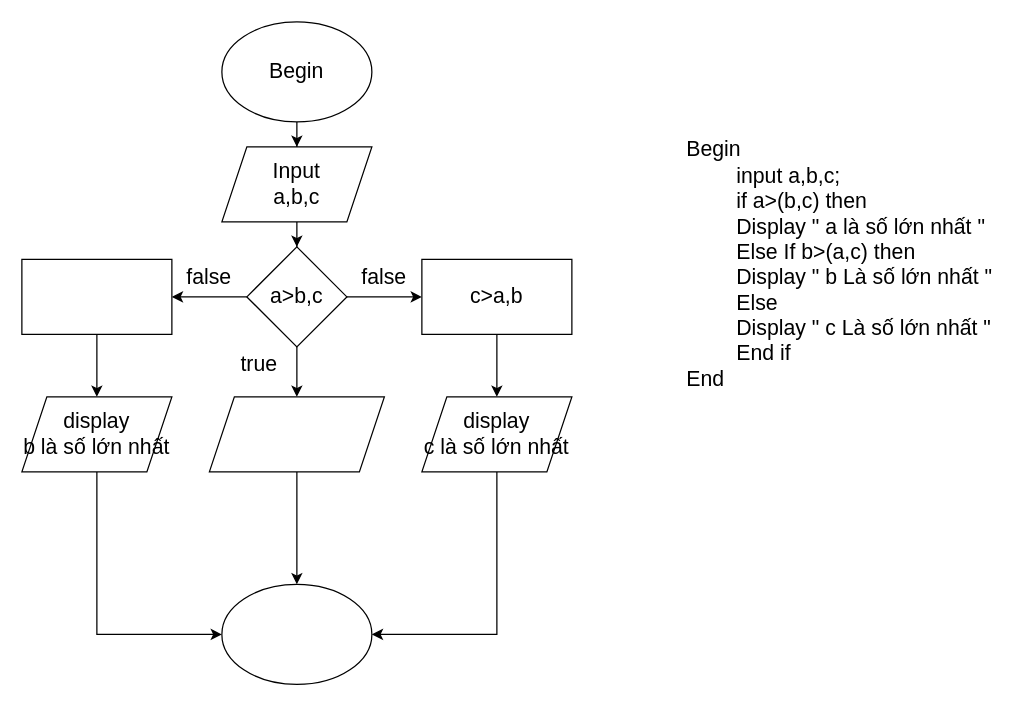
Image size: 1031x706. Some labels were removed from this diagram. The centre of each missing label's shape, as x and y in pixels:
b>a,c: the point at 96,296
display a là số lớn nhất: the point at 296,434
End: the point at 296,633
